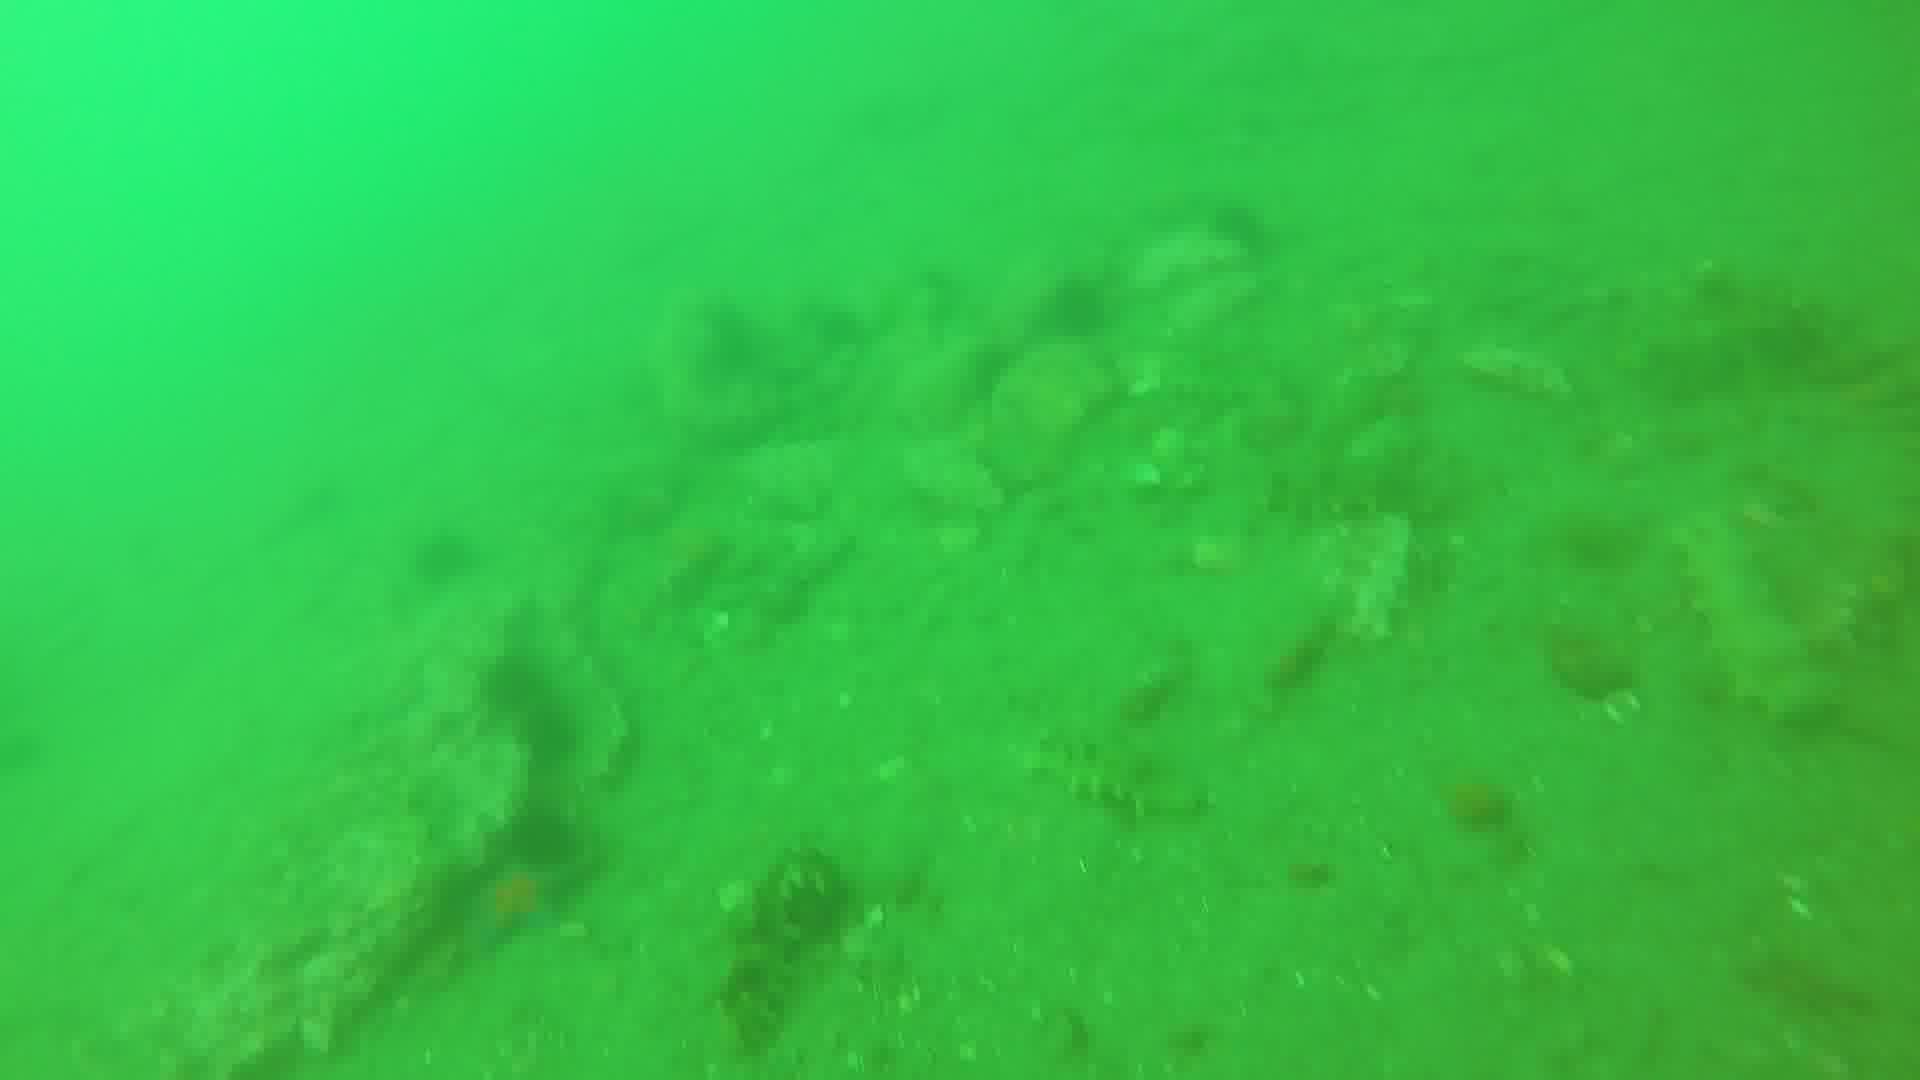echinus: (504, 794, 580, 866), (411, 534, 487, 593)
holothurian: (1673, 512, 1834, 728), (1019, 728, 1204, 822), (1250, 452, 1445, 525)
starfish: (454, 855, 583, 961)
